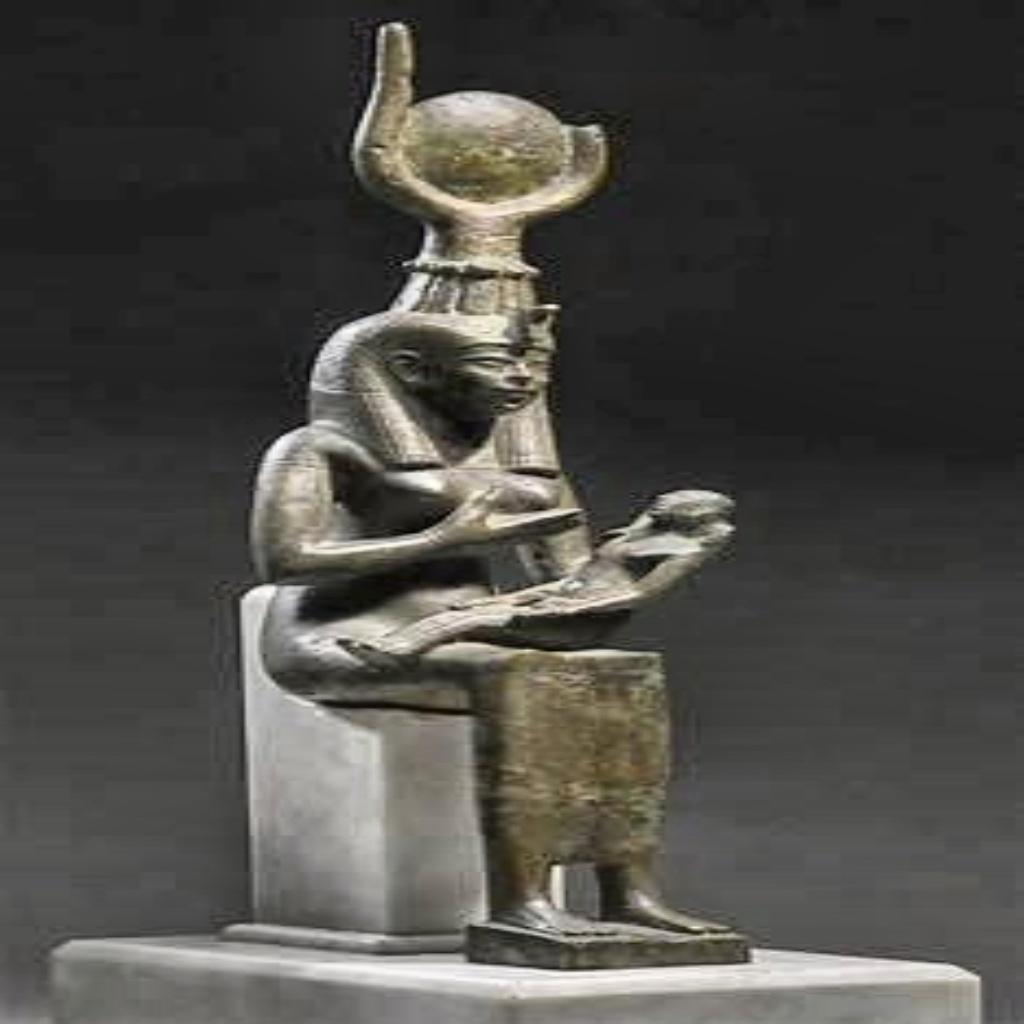Isis with her child: (228, 18, 762, 970)
